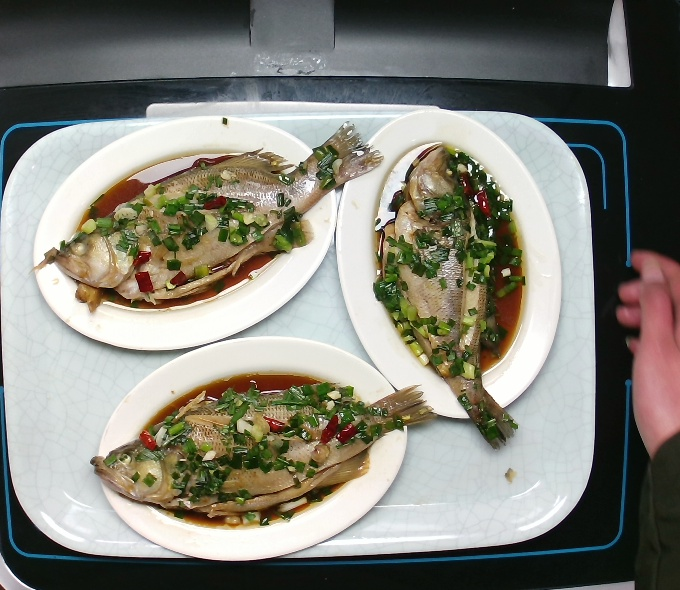wcq-LuYu: (30, 119, 382, 317), (82, 369, 435, 533), (365, 140, 539, 457)
